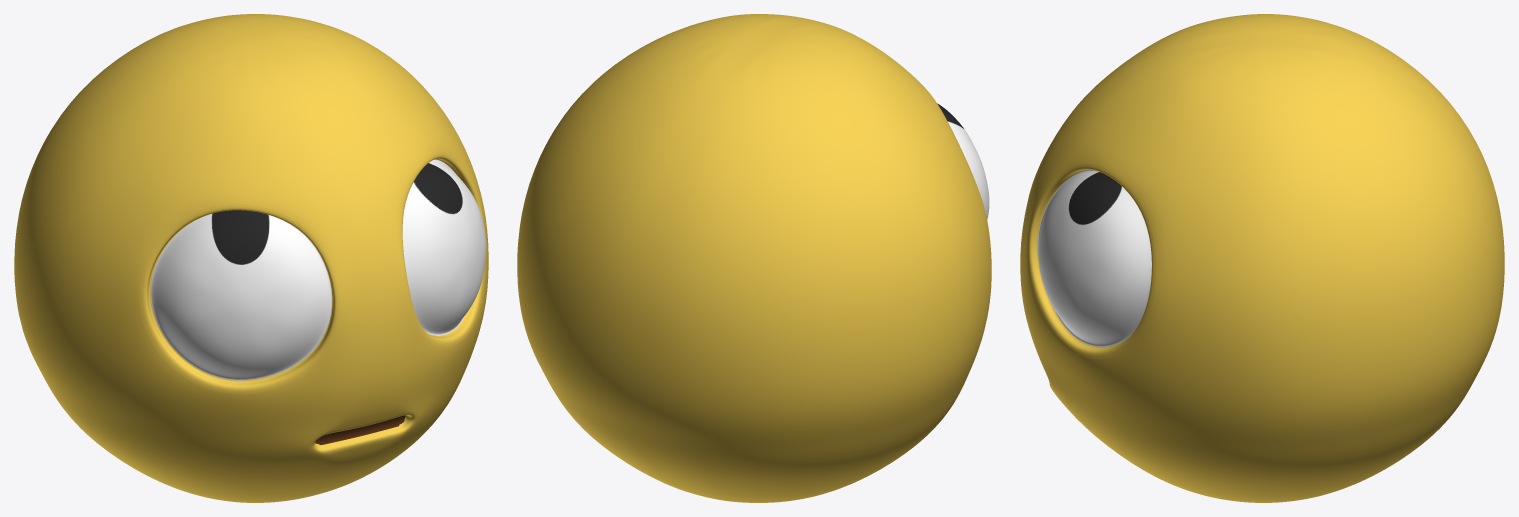
File: whiteeye.dae
3 renders of one model, left to right at view 1: azimuth 30°, elevation 25°; view 2: azimuth 150°, elevation 25°; view 3: azimuth 270°, elevation 25°, orthographic.
Parts seen in each view (by area): view 1: _D; view 2: _D; view 3: _D.
Boxes of the visible parts, x1,y1,x2,y2 form: _D: (14,14,488,502); _D: (517,14,991,502); _D: (1020,14,1504,502).
Size of the model in its own units: 0.1866 by 0.1882 by 0.1877.
Materials: 1 (1 with a texture image).
